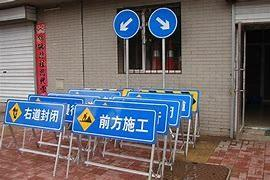sign: (74, 106, 154, 140), (5, 101, 62, 126)
